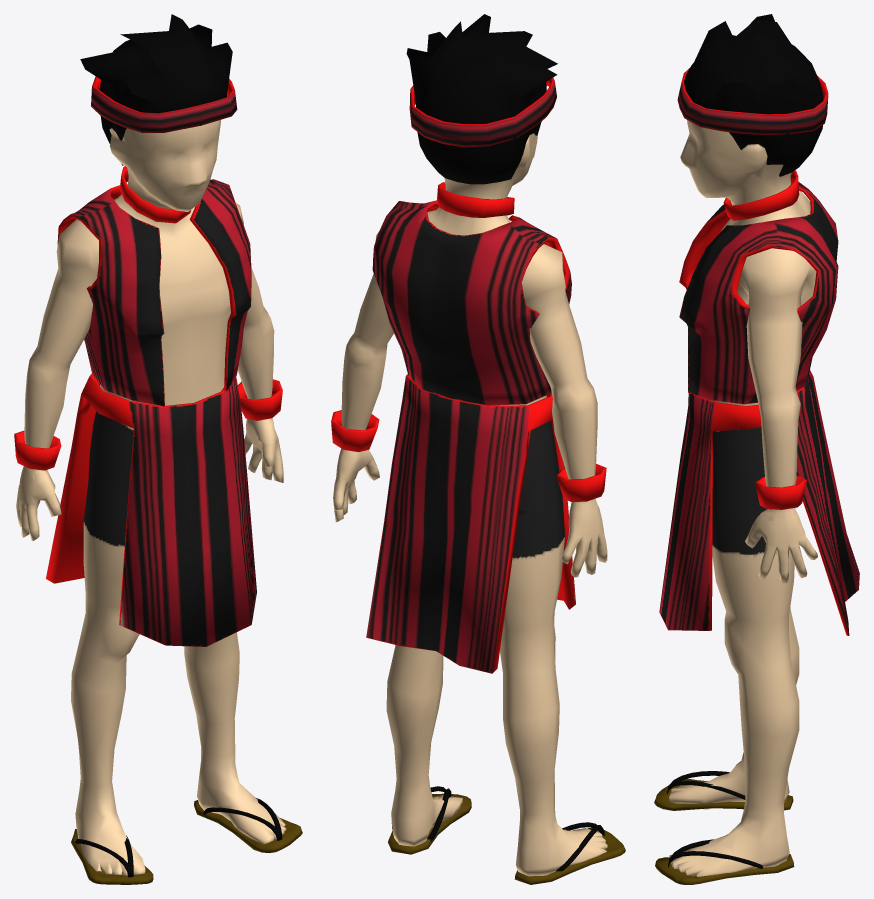
File: Maisig.glb
3 renders of one model, left to right at view 1: azimuth 30°, elevation 25°; view 2: azimuth 150°, elevation 25°; view 3: azimuth 270°, elevation 25°, orthographic. The views are drawn at different scales.
Parts seen in each view (by area): view 1: polySurface24; view 2: polySurface24; view 3: polySurface24.
Boxes of the visible parts, x1,y1,x2,y2 form: polySurface24: (14,14,302,884); polySurface24: (331,14,625,884); polySurface24: (654,14,859,884).
Size of the model in its own units: 0.9427 by 2.77 by 0.6381.
1 material, 1 textured.
